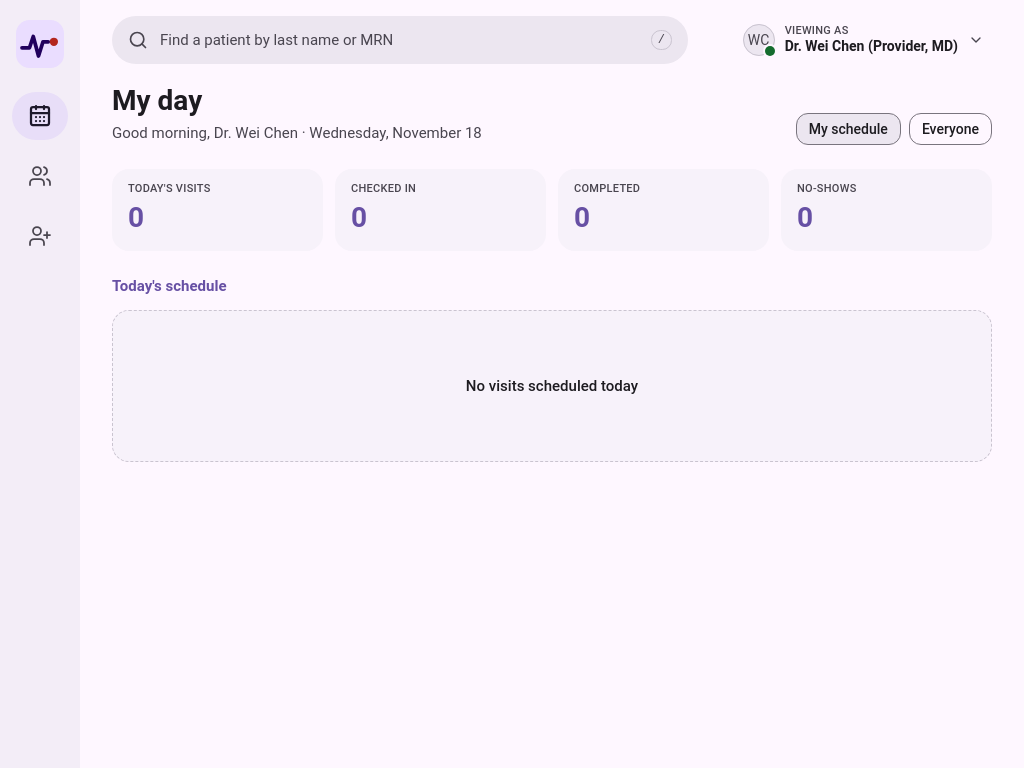
demo identity › switches persona from the banner and drops everything cached as the previous one
Step 1. Click the button "WC Viewing as Dr. Wei Chen (Provider, MD)" → {"x": 863, "y": 40}, box [735,20,992,60]
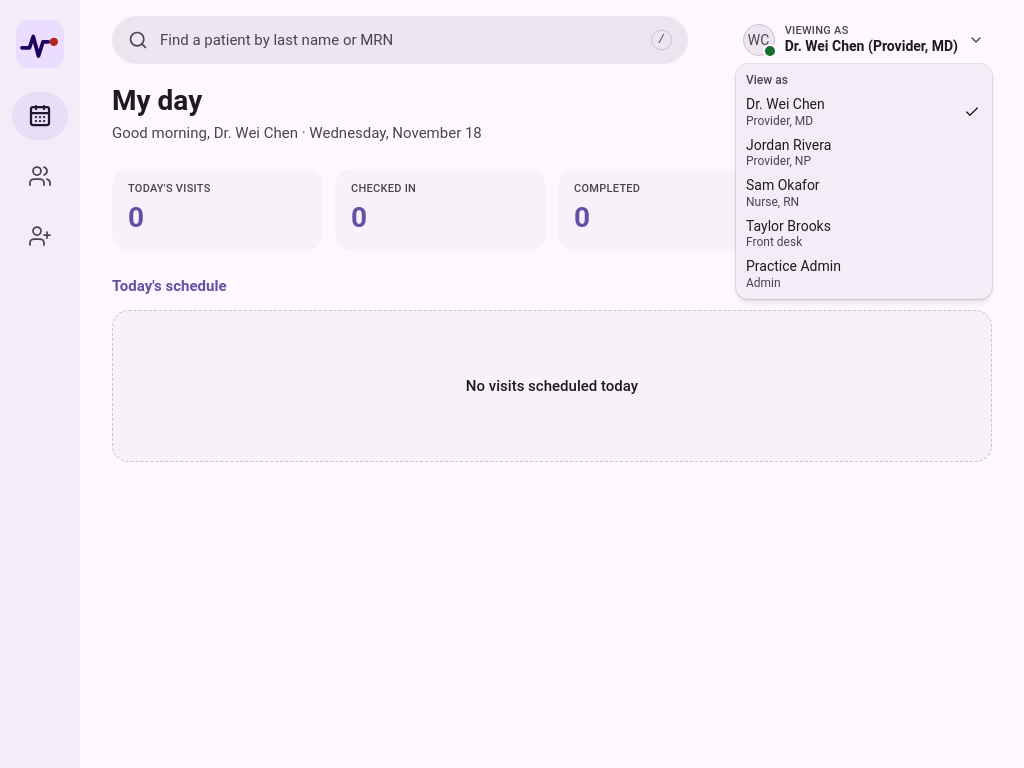
Step 2. Click the menu item "Sam Okafor Nurse, RN" → {"x": 783, "y": 193}, box [746,177,820,208]
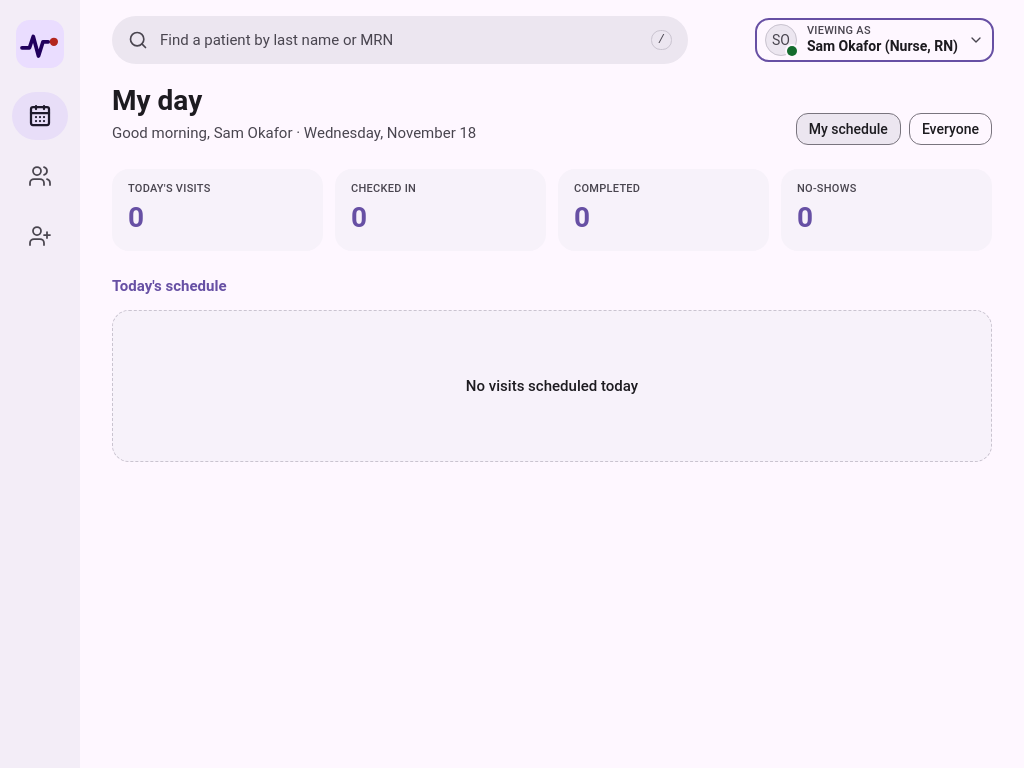
Result: the button "SO Viewing as Sam Okafor (Nurse, RN)" is shown at [757,20,992,60]
